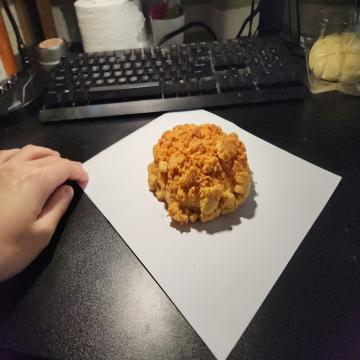soboru_bread: (147, 120, 251, 233)
